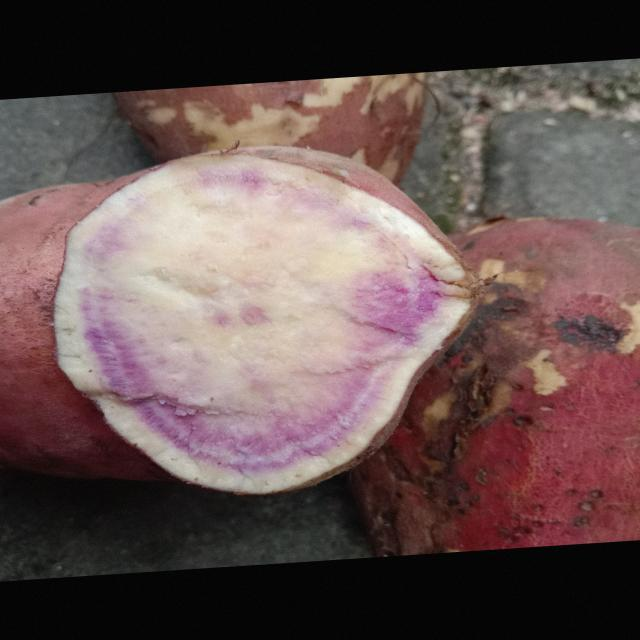Healthy Sweet Potato: (53, 146, 480, 494)
